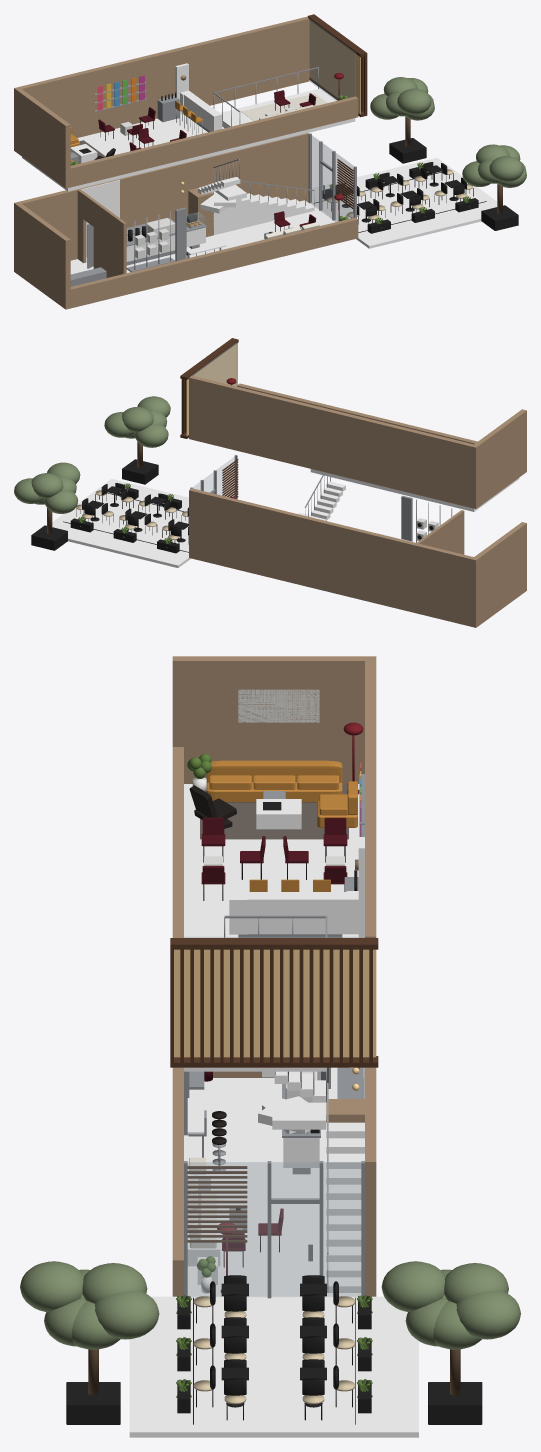
File: cafe-3d.glb
3 views of the same model, one above another, from view 1: azimuth 30°, elevation 25°; view 2: azimuth 150°, elevation 25°; view 3: azimuth 270°, elevation 25° (orthographic). The views are drawn at different scales.
Visible parts, largest first — view 1: uw_side_t, wall_side_t, out_floor, wall_side_b, uw_side_b, wall_back, uw_back, slab_a, slat_glow, u_glass, floor_g, part (+22 smaller); view 2: wall_side_t, uw_side_t, out_floor, wall_back, uw_back, slat_glow, uw_side_b, part, u_glass, slab_a, tree_box.001, tree_box (+11 smaller); view 3: out_floor, front_glass, uw_back, floor_g, slat_glow, slab_a, ubar, uw_side_t, frame_u, wall_side_b, wall_side_t, canopy.005 (+21 smaller).
Boxes of the visible parts, x1=… form: uw_side_t: x1=19, y1=17, x2=309, y2=137; wall_side_t: x1=19, y1=133, x2=308, y2=260; out_floor: x1=310, y1=157, x2=497, y2=248; wall_side_b: x1=70, y1=217, x2=358, y2=308; uw_side_b: x1=70, y1=96, x2=358, y2=187; wall_back: x1=14, y1=201, x2=70, y2=309; uw_back: x1=14, y1=87, x2=70, y2=188; slab_a: x1=22, y1=114, x2=234, y2=191; slat_glow: x1=309, y1=20, x2=360, y2=114; u_glass: x1=309, y1=19, x2=355, y2=100; floor_g: x1=70, y1=203, x2=335, y2=274; part: x1=93, y1=201, x2=126, y2=277; wall_side_t: x1=189, y1=488, x2=473, y2=626; uw_side_t: x1=189, y1=375, x2=473, y2=507; out_floor: x1=52, y1=478, x2=190, y2=567; wall_back: x1=471, y1=522, x2=526, y2=627; uw_back: x1=471, y1=409, x2=526, y2=508; slat_glow: x1=186, y1=343, x2=237, y2=435; uw_side_b: x1=237, y1=383, x2=477, y2=444; part: x1=432, y1=510, x2=464, y2=554; u_glass: x1=192, y1=342, x2=236, y2=386; slab_a: x1=310, y1=469, x2=519, y2=511; tree_box.001: x1=31, y1=525, x2=67, y2=550; tree_box: x1=122, y1=459, x2=158, y2=484; out_floor: x1=129, y1=1296, x2=418, y2=1437; front_glass: x1=188, y1=1162, x2=360, y2=1296; uw_back: x1=172, y1=656, x2=376, y2=783; floor_g: x1=184, y1=1067, x2=361, y2=1296; slat_glow: x1=174, y1=949, x2=376, y2=1057; slab_a: x1=184, y1=784, x2=359, y2=937; ubar: x1=229, y1=892, x2=346, y2=934; uw_side_t: x1=365, y1=661, x2=376, y2=937; frame_u: x1=238, y1=689, x2=319, y2=722; wall_side_b: x1=172, y1=1067, x2=183, y2=1296; wall_side_t: x1=365, y1=1067, x2=376, y2=1296; canopy.005: x1=20, y1=1261, x2=83, y2=1311.
Size of the model in its own units: 22.08 by 8.92 by 11.08.
